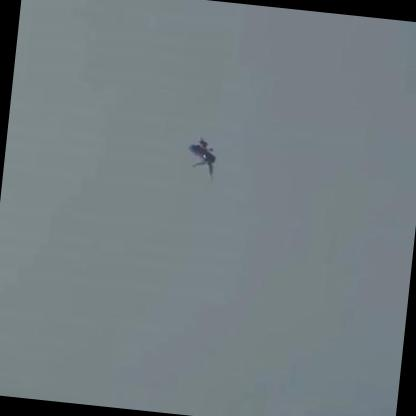plane: (180, 131, 223, 185)
